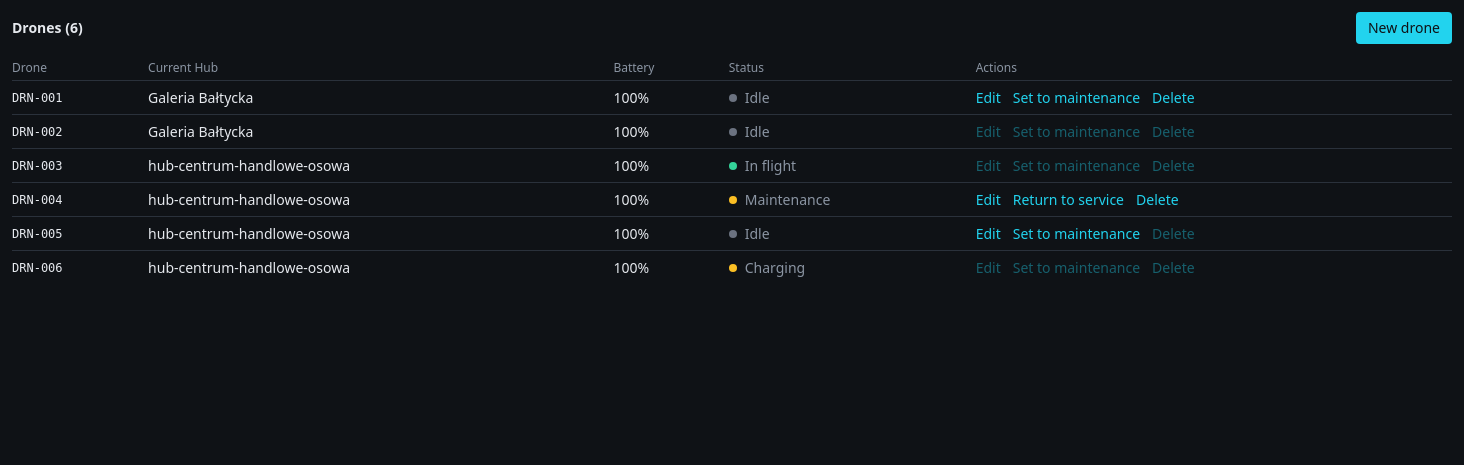
DronesManager › refuses an unchanged edit locally
The image size is (1464, 465).
What coordinates should you click on to do the following:
click the button with aria-label "Edit drone DRN-001"
I would click on:
 (988, 98)
Its box is [976,88,1001,108].
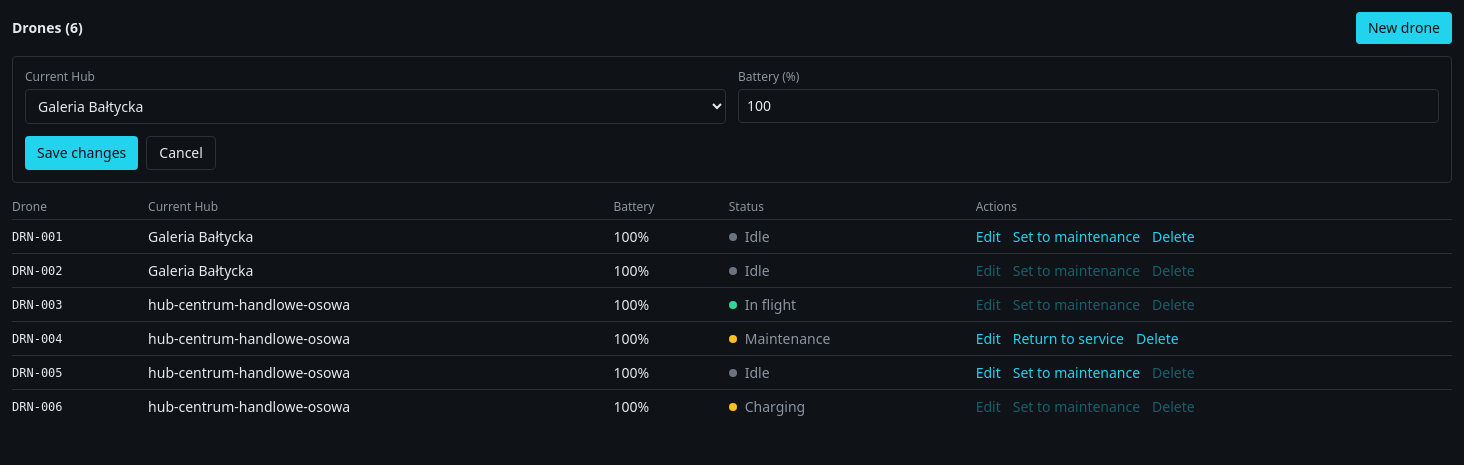
What coordinates should you click on to do the following:
click the button "Save changes"
I would click on:
 (82, 153)
Its box is [25,136,138,170].
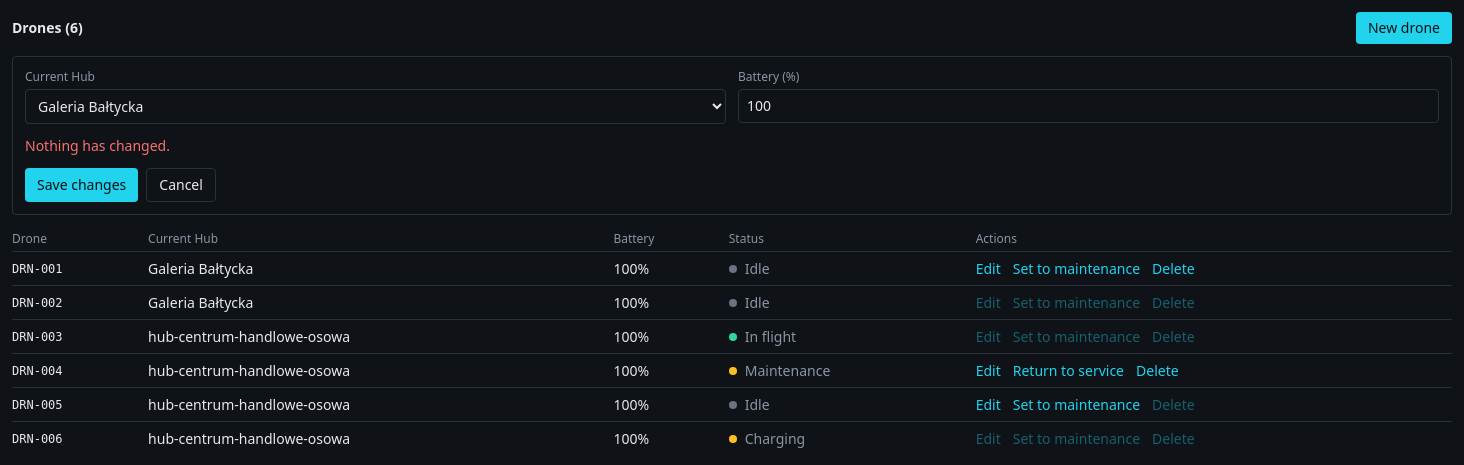
Now the message reads "Nothing has changed.", box [25,136,170,155]
